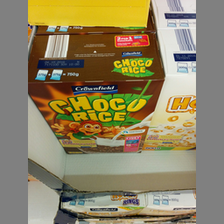cereal: (27, 55, 161, 155)
